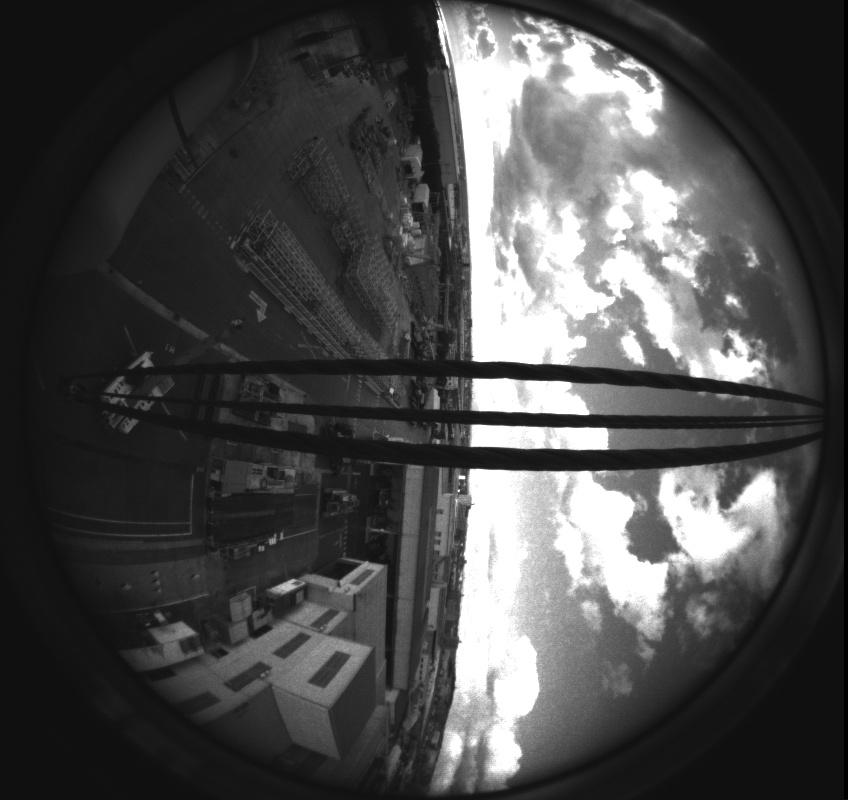rope: (3, 350, 842, 478)
